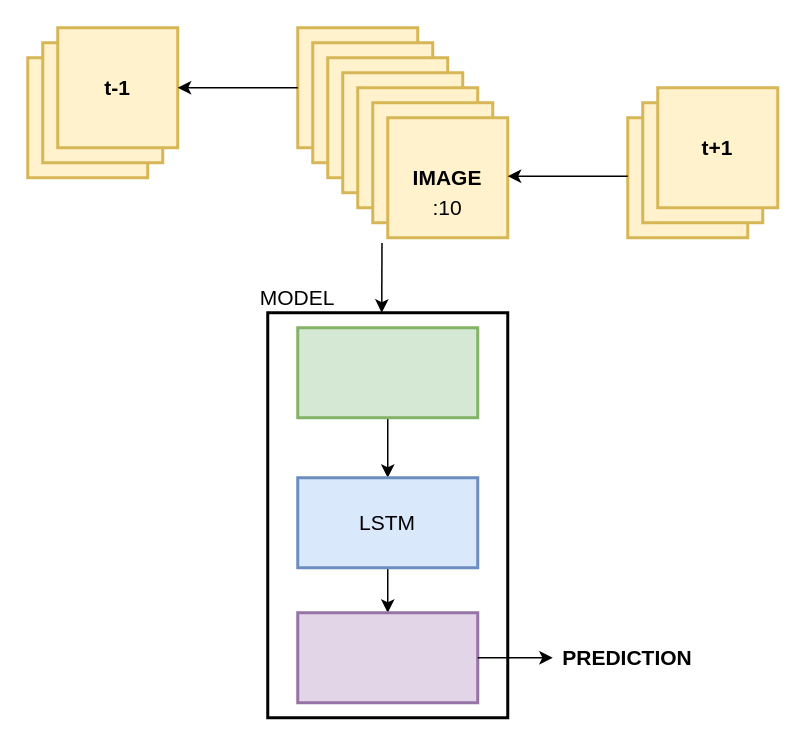
This 804x744 diagram has some shape labels left out. Each missing label, with the centre of its shape:
"CNN" belongs at [387,372].
"DENSE" belongs at [387,657].
